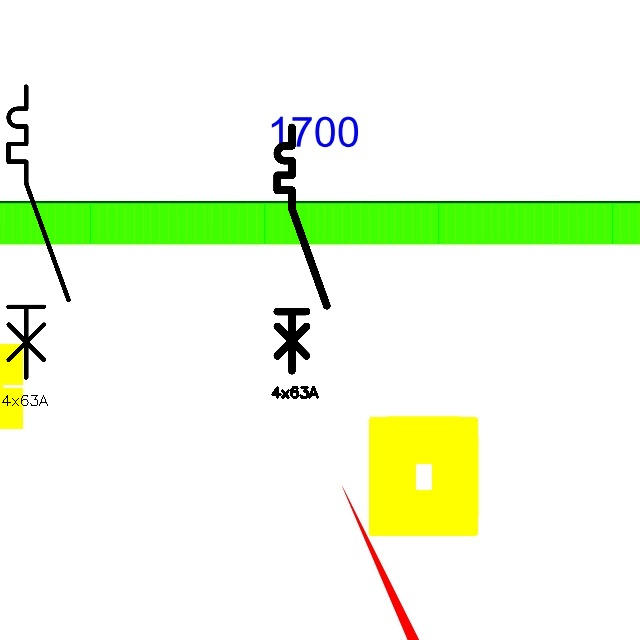interruptor_termomagnetico: (1, 79, 75, 384), (271, 121, 333, 377)
